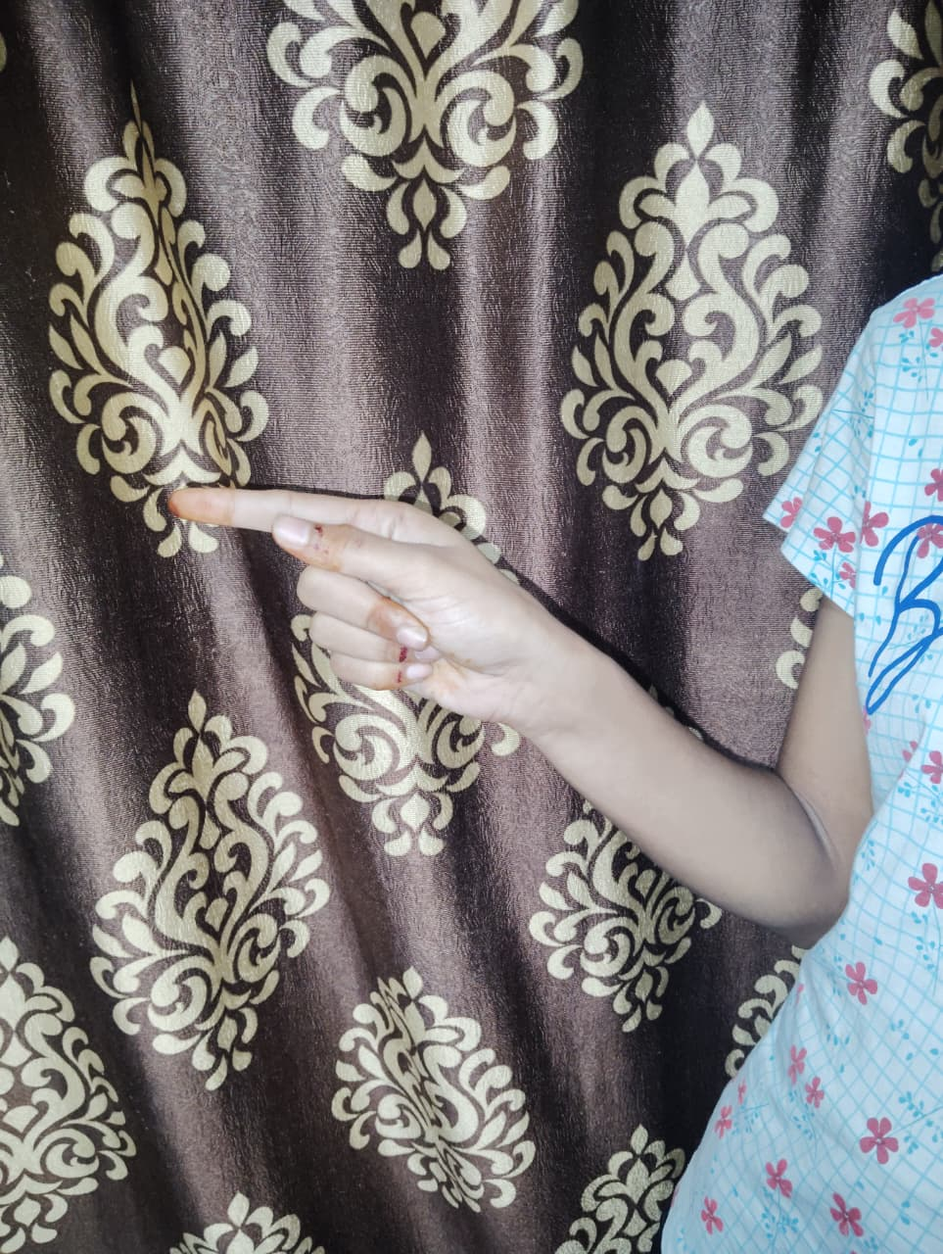G: (165, 484, 566, 740)
